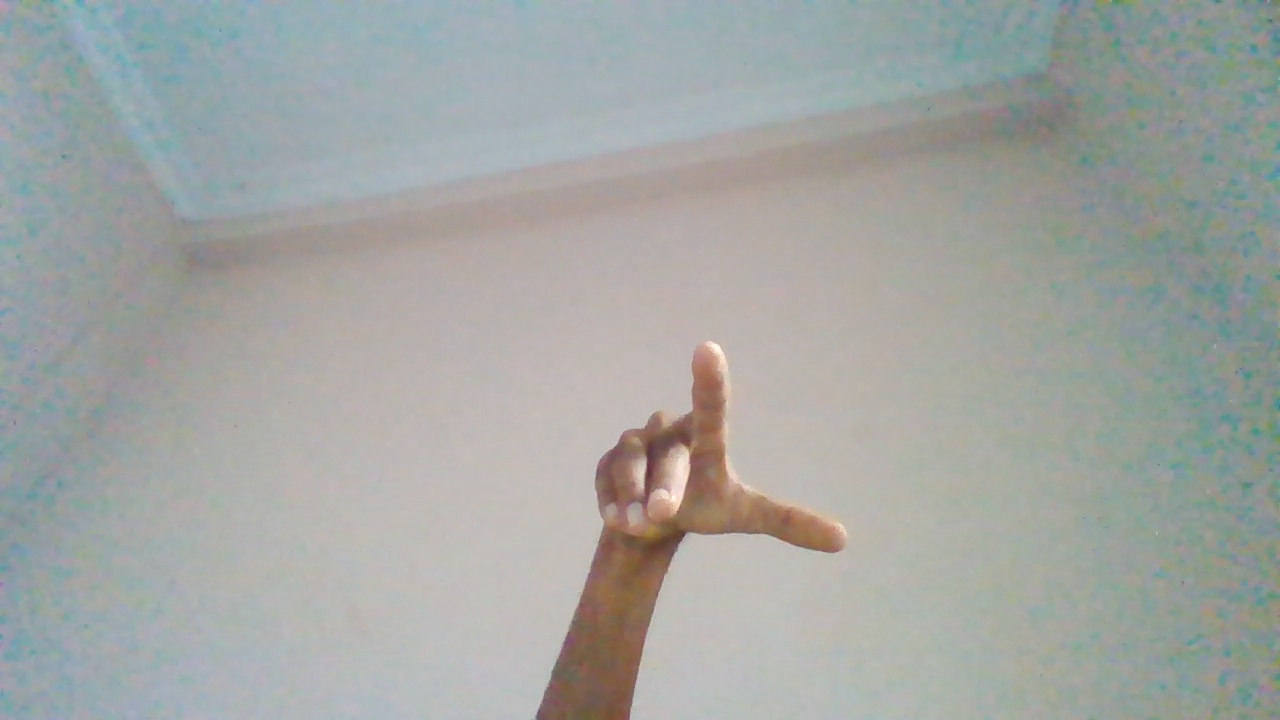ke: (585, 341, 855, 676)
